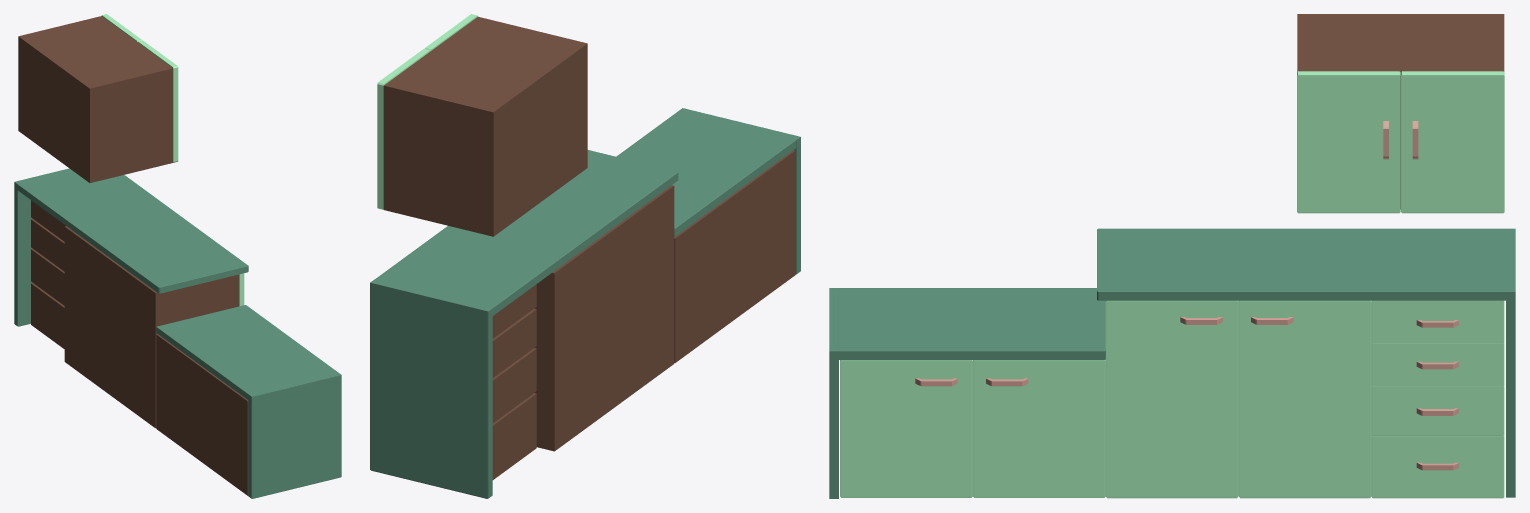
File: keuken.fbx
The picture shows the model from 3 angles, left to right: view 1: azimuth 30°, elevation 25°; view 2: azimuth 150°, elevation 25°; view 3: azimuth 270°, elevation 25°; orthographic projection. The views are drawn at different scales.
Parts seen in each view (by area): view 1: boven kast, grote kast, bladR, blad VL, kleine kast, blad L, blad VR, lade 4, lade 3, lade 2, boven deurL, lade 1; view 2: boven kast, grote kast, blad VR, bladR, kleine kast, blad L, lade 4, lade 3, lade 2, blad VL, boven deurR, lade 1; view 3: bladR, grote deurL, grote deurR, blad L, kleine deurR, kleine deurL, boven deurR, boven deurL, boven kast, lade 4, lade 3, lade 2 (+3 smaller).
Boxes of the visible parts, box(x1,y1,x2,y2) form: boven kast: box(18, 16, 173, 182); grote kast: box(64, 226, 238, 428); bladR: box(17, 171, 248, 293); blad VL: box(248, 372, 341, 498); kleine kast: box(156, 334, 248, 495); blad L: box(156, 305, 337, 399); blad VR: box(14, 168, 72, 326); lade 4: box(31, 283, 64, 348); lade 3: box(31, 248, 64, 305); lade 2: box(31, 219, 64, 271); boven deurL: box(138, 40, 178, 162); lade 1: box(31, 200, 65, 241); boven kast: box(383, 16, 587, 236); grote kast: box(534, 185, 674, 451); blad VR: box(370, 279, 492, 498); bladR: box(375, 150, 678, 315); kleine kast: box(674, 150, 795, 362); blad L: box(616, 111, 796, 236); lade 4: box(492, 393, 536, 479); lade 3: box(492, 348, 536, 422); lade 2: box(492, 308, 536, 377); blad VL: box(678, 108, 800, 274); boven deurR: box(377, 48, 430, 209); lade 1: box(492, 284, 536, 338); bladR: box(1097, 228, 1505, 300); grote deurL: box(1238, 300, 1371, 498); grote deurR: box(1105, 300, 1238, 498); blad L: box(838, 288, 1105, 359); kleine deurR: box(840, 360, 972, 497); kleine deurL: box(973, 360, 1105, 497); boven deurR: box(1401, 71, 1504, 213); boven deurL: box(1297, 71, 1400, 213); boven kast: box(1297, 14, 1504, 209); lade 4: box(1371, 435, 1504, 498); lade 3: box(1371, 386, 1504, 435); lade 2: box(1371, 343, 1504, 386).
Bounding box in the file's own units: 122 × 372 × 546.
